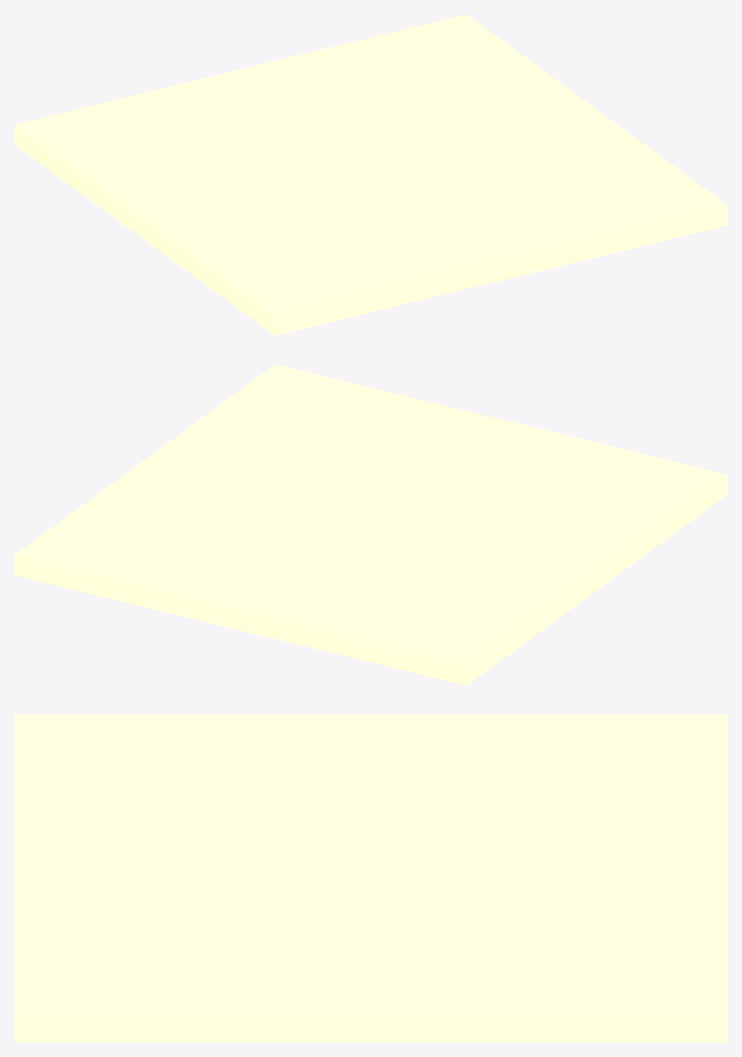
Rendered from Barroque_02.gltf.
3 renders of one model, top to bottom at view 1: azimuth 30°, elevation 25°; view 2: azimuth 150°, elevation 25°; view 3: azimuth 270°, elevation 25°, orthographic. The views are drawn at different scales.
Visible parts, largest first — view 1: PF_Barroque_2; view 2: PF_Barroque_2; view 3: PF_Barroque_2.
Part boxes in pixels (bbox=[...]): PF_Barroque_2: bbox=[14, 14, 727, 335]; PF_Barroque_2: bbox=[14, 364, 727, 685]; PF_Barroque_2: bbox=[14, 714, 727, 1042].
Bounding box in the file's own units: 127 × 5.61 × 127.
